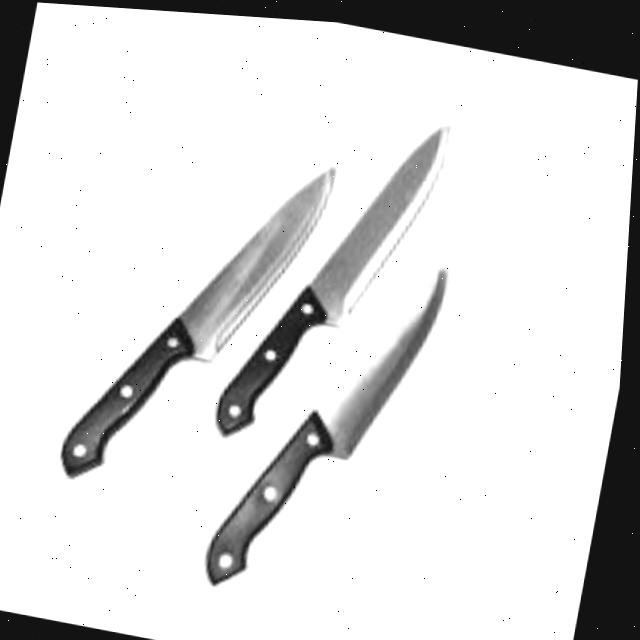Knife: (62, 119, 342, 511), (210, 226, 458, 612), (218, 84, 459, 462)
